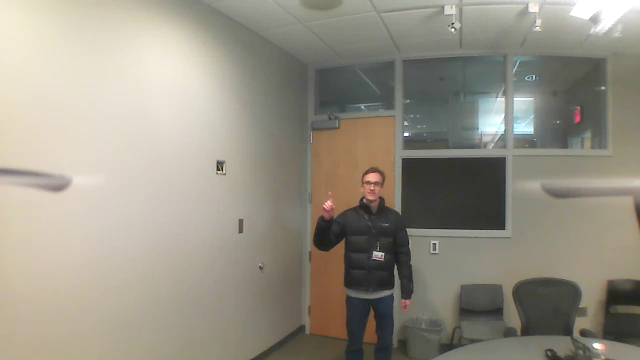up: (320, 187, 339, 219)
